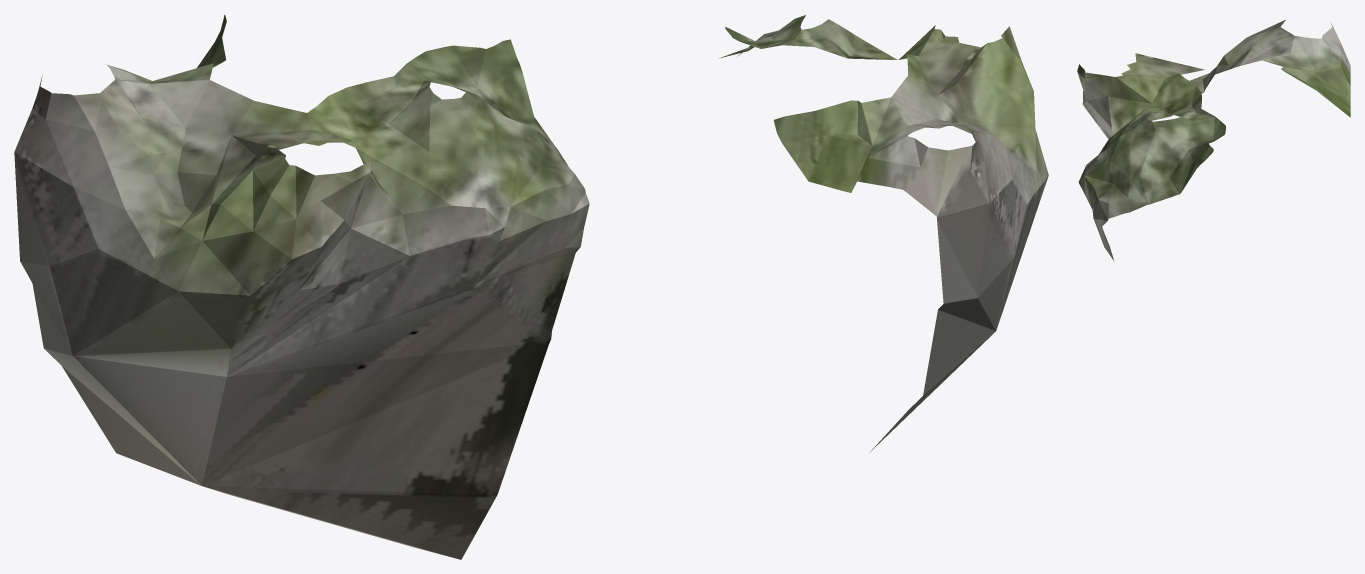
3 renders of one model, left to right at view 1: azimuth 30°, elevation 25°; view 2: azimuth 150°, elevation 25°; view 3: azimuth 270°, elevation 25°, orthographic. The views are drawn at different scales.
Size of the model in its own units: 1.27 by 1.66 by 1.01.
1 material, 1 textured.
